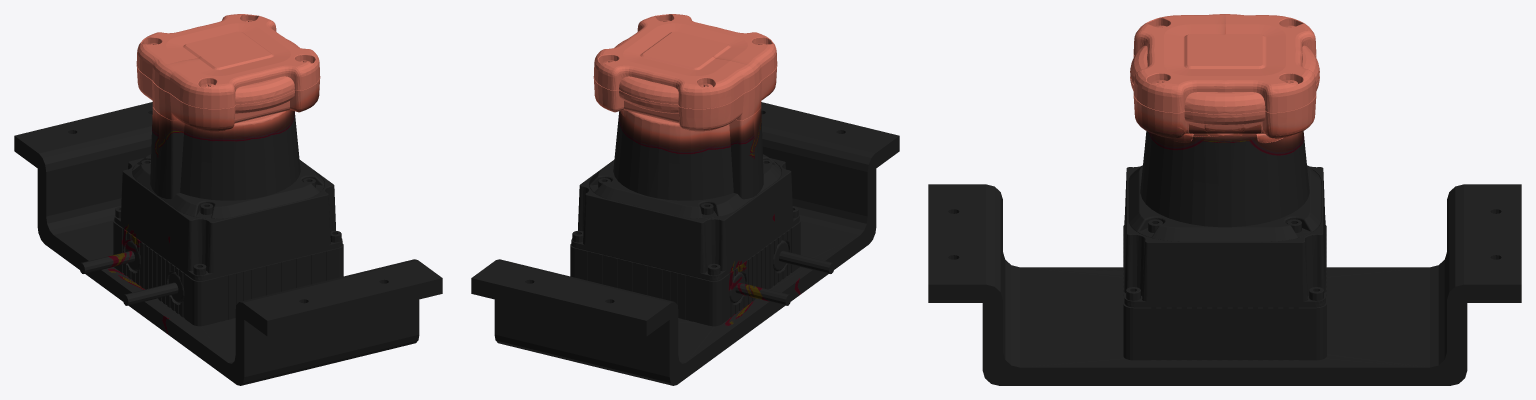
Rendered from laser.dae.
The picture shows the model from 3 angles, left to right: view 1: azimuth 30°, elevation 25°; view 2: azimuth 150°, elevation 25°; view 3: azimuth 270°, elevation 25°; orthographic projection. The views are drawn at different scales.
Parts seen in each view (by area): view 1: laser; view 2: laser; view 3: laser.
Part boxes in pixels (left/top/right/bottom): laser: left=14, top=14, right=442, bottom=385; laser: left=471, top=14, right=899, bottom=385; laser: left=928, top=14, right=1521, bottom=385.
Size of the model in its own units: 0.0848 by 0.175 by 0.093.
1 material, 1 textured.
